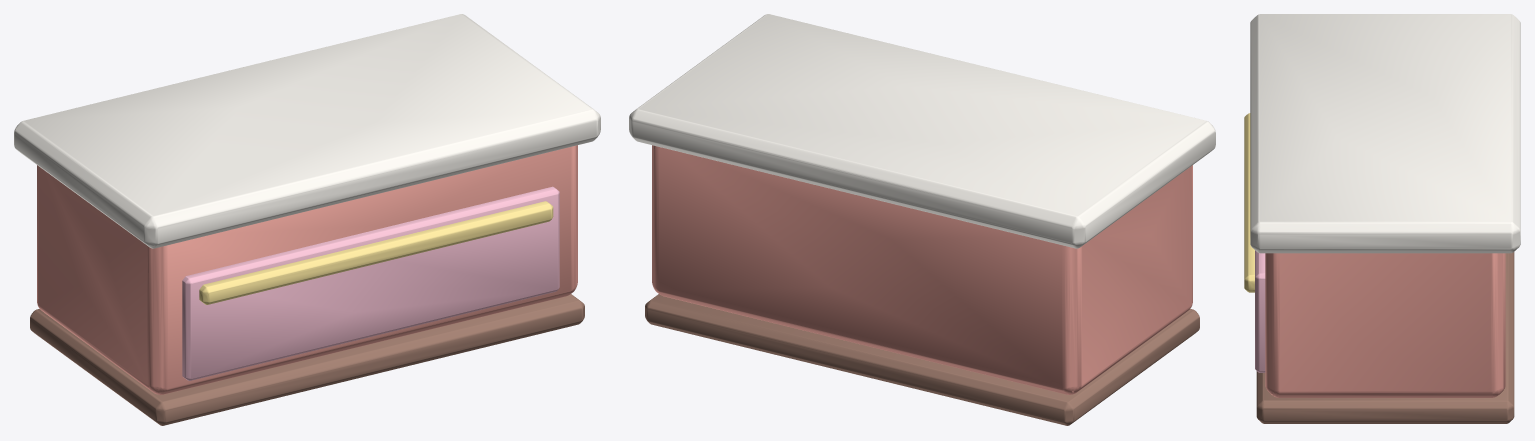
File: counter_extension.glb
3 views of the same model, side by side, from view 1: azimuth 30°, elevation 25°; view 2: azimuth 150°, elevation 25°; view 3: azimuth 270°, elevation 25° (orthographic). The views are drawn at different scales.
Parts seen in each view (by area): view 1: CounterExtension_Top, CounterExtension_Body, CounterExtension_FrontInset, CounterExtension_Platform, CounterExtension_Accent; view 2: CounterExtension_Body, CounterExtension_Top, CounterExtension_Platform; view 3: CounterExtension_Top, CounterExtension_Body, CounterExtension_Platform, CounterExtension_Accent, CounterExtension_FrontInset.
Part boxes in pixels (x1,y1,x2,y2): CounterExtension_Top: (14, 14, 600, 248); CounterExtension_Body: (37, 145, 577, 394); CounterExtension_FrontInset: (182, 186, 559, 380); CounterExtension_Platform: (30, 294, 584, 425); CounterExtension_Accent: (199, 201, 553, 304); CounterExtension_Body: (652, 145, 1192, 394); CounterExtension_Top: (629, 14, 1215, 248); CounterExtension_Platform: (645, 294, 1199, 425); CounterExtension_Top: (1250, 14, 1520, 253); CounterExtension_Body: (1265, 253, 1505, 397); CounterExtension_Platform: (1256, 252, 1514, 423); CounterExtension_Accent: (1244, 113, 1254, 292); CounterExtension_FrontInset: (1255, 250, 1265, 372).
Bounding box in the file's own units: 2.34 × 1.05 × 1.27.
